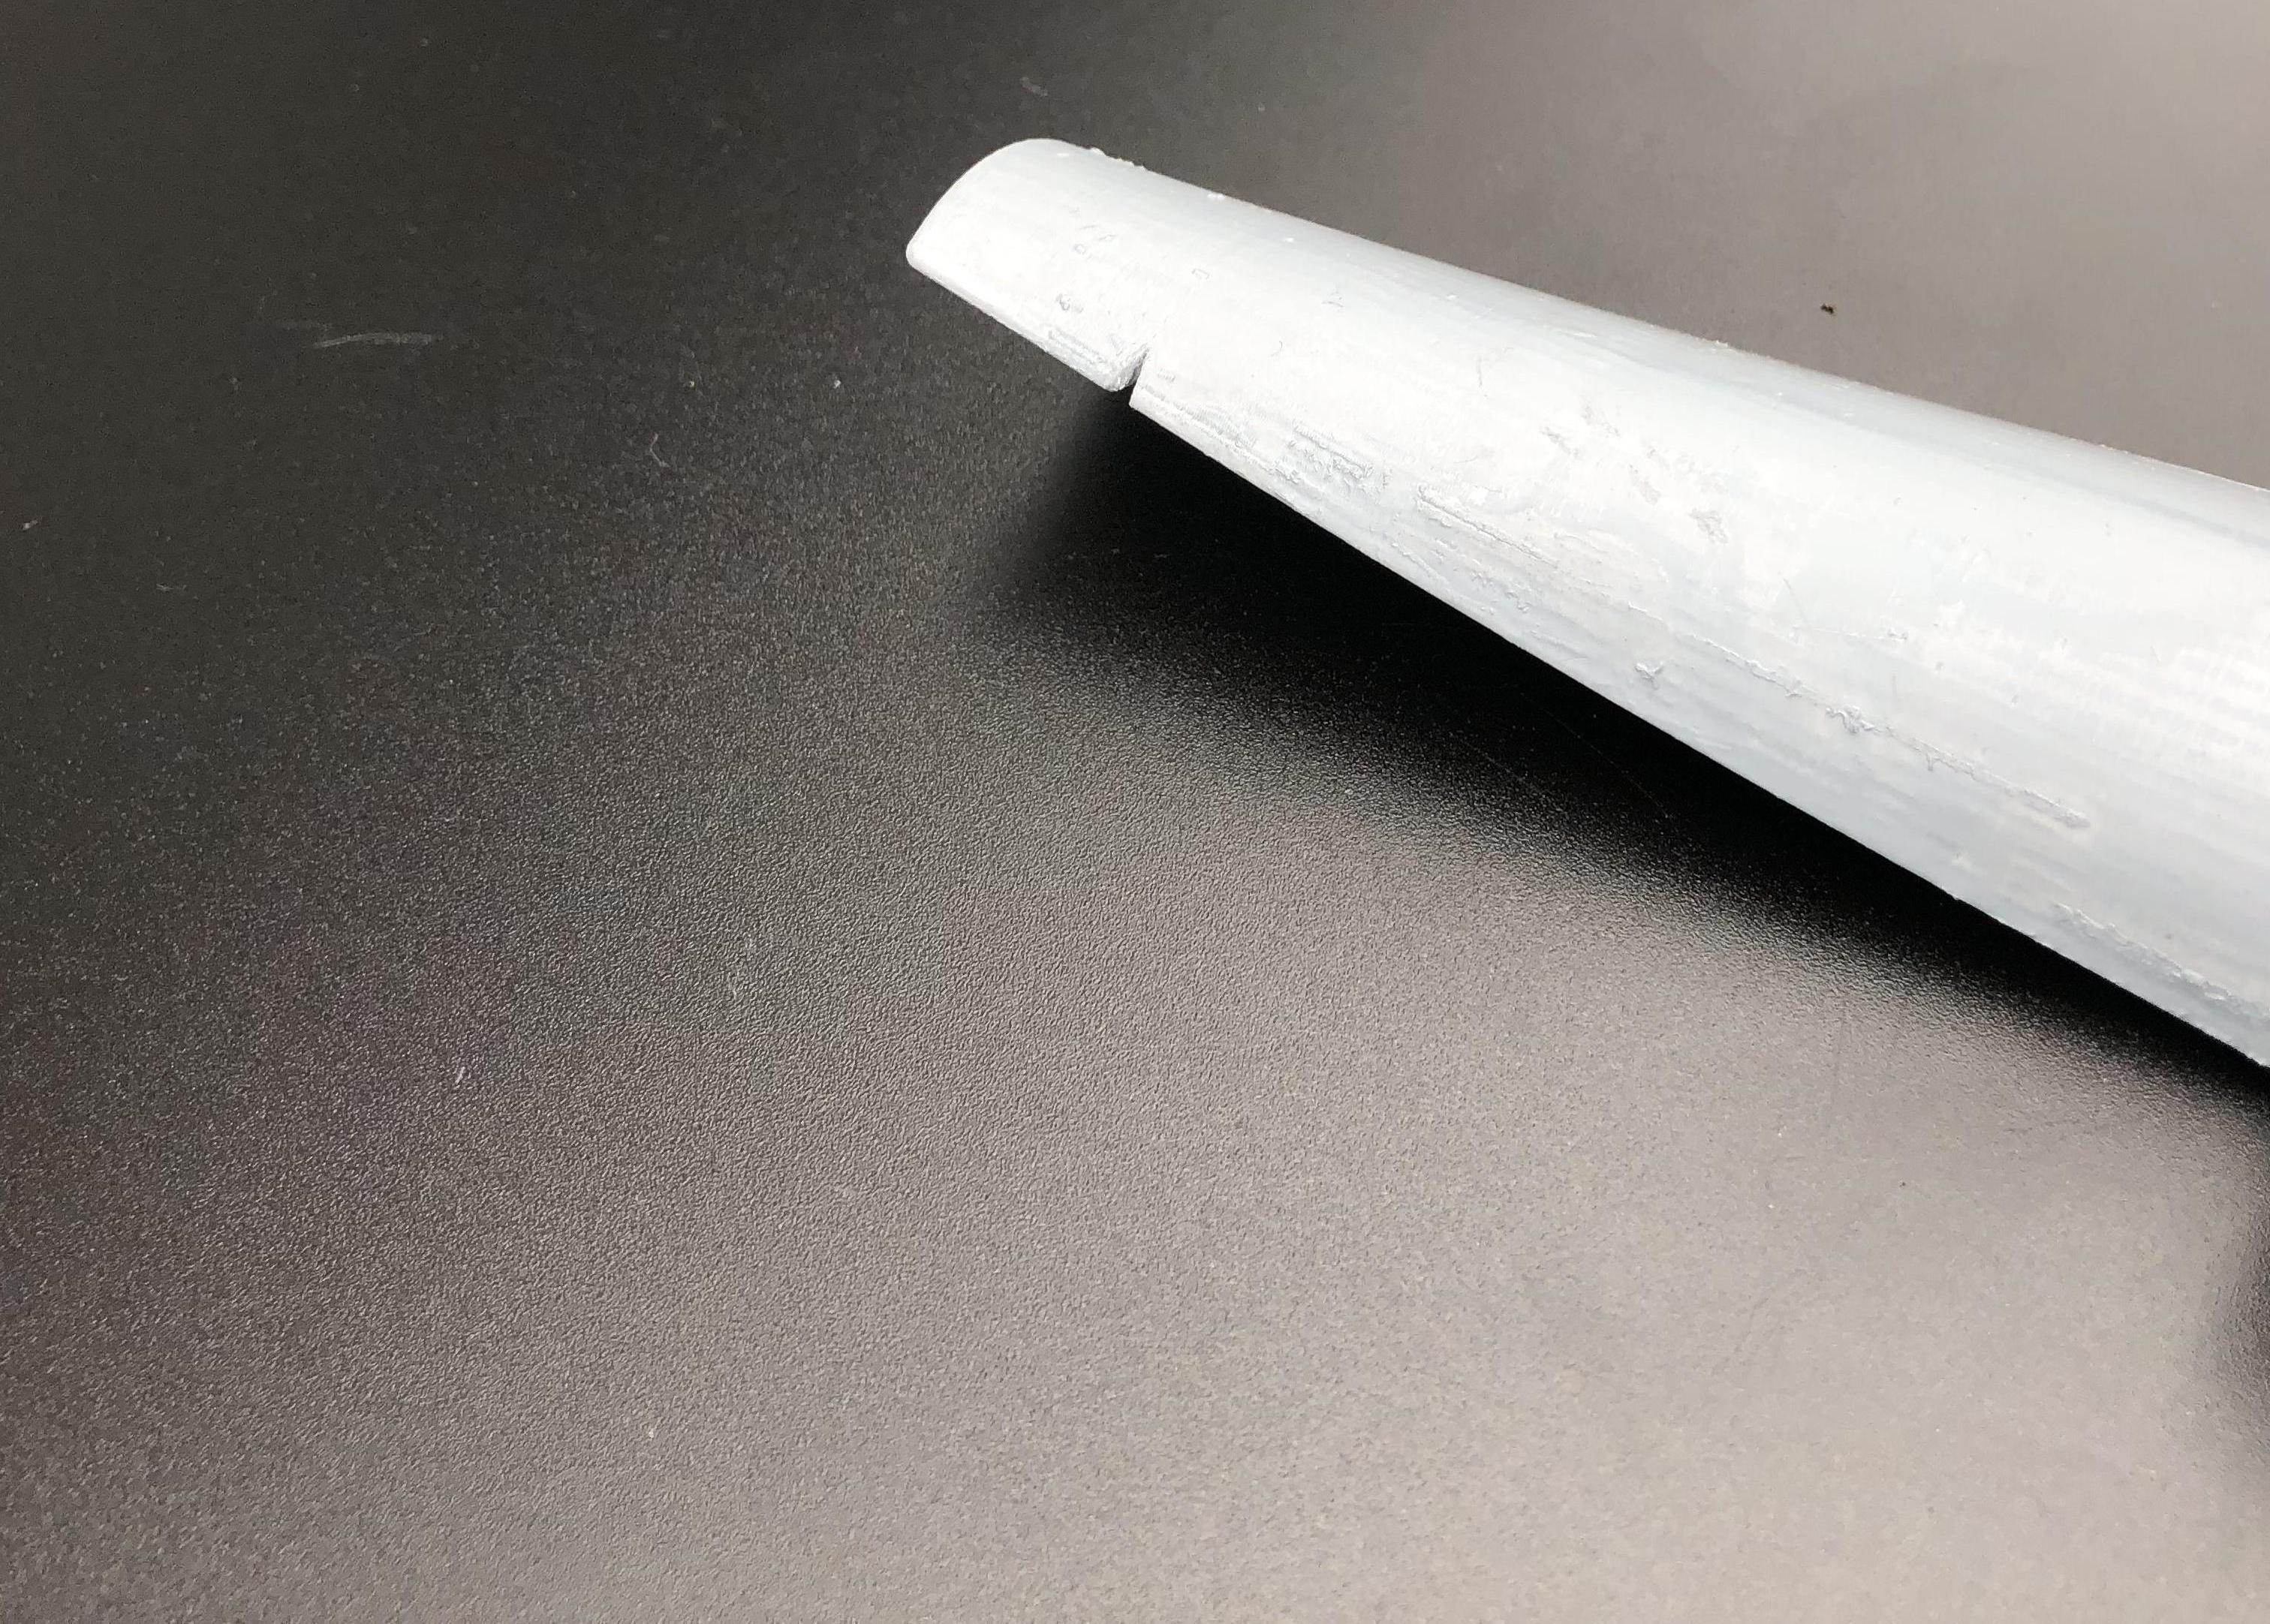groove: (1099, 339, 1162, 406)
